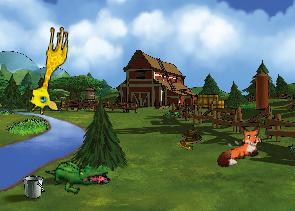crocodile: (44, 148, 112, 202)
fox: (209, 120, 269, 170)
giraffe: (27, 23, 70, 116)
